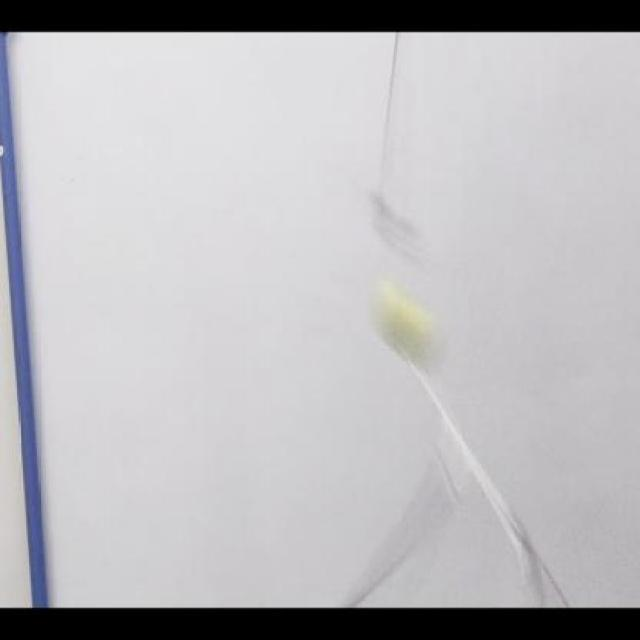baseball: (372, 320, 448, 334)
